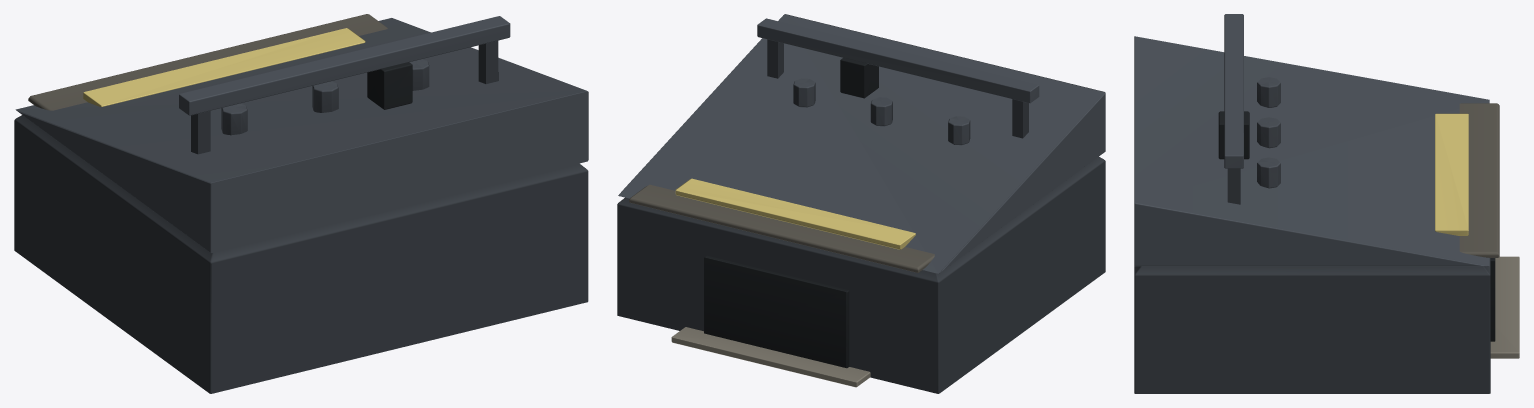
File: war_factory.glb
3 renders of one model, left to right at view 1: azimuth 30°, elevation 25°; view 2: azimuth 150°, elevation 25°; view 3: azimuth 270°, elevation 25°, orthographic. The views are drawn at different scales.
Parts seen in each view (by area): view 1: Body; view 2: Body; view 3: Body.
Boxes of the visible parts, left/top/right/bottom form: Body: left=14, top=14, right=588, bottom=393; Body: left=617, top=14, right=1105, bottom=393; Body: left=1134, top=14, right=1519, bottom=393.
Bounding box in the file's own units: 9 × 5.67 × 8.76.
